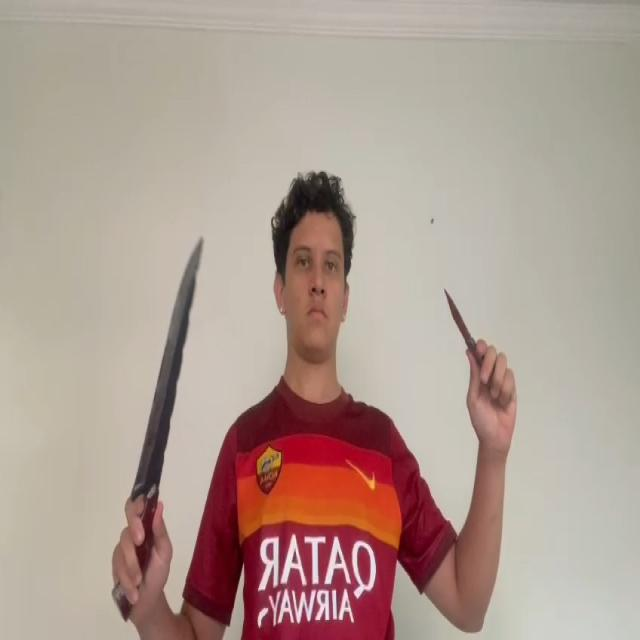knife: (134, 233, 204, 494), (444, 289, 469, 344)
